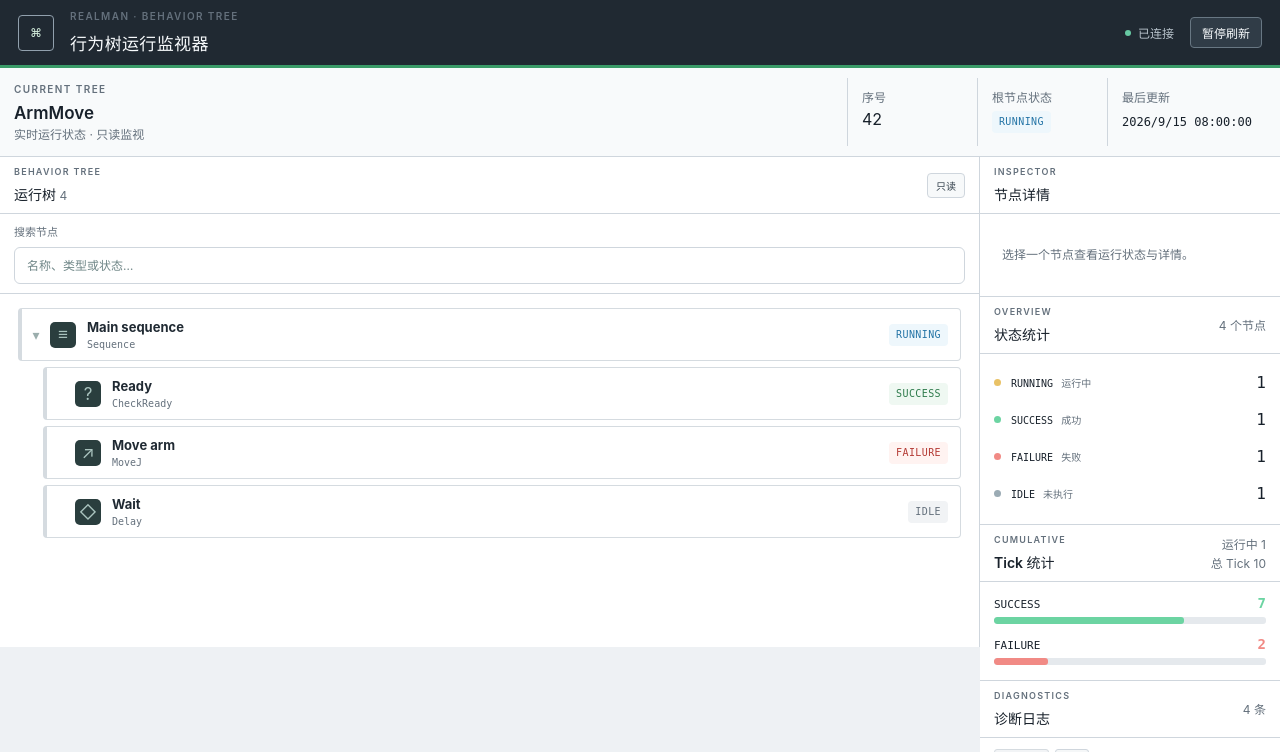
read-only runtime monitor › shows the selected node failure reason in the inspector
Click the button "↗ Move arm MoveJ FAILURE".
click(144, 445)  # box [75, 427, 960, 478]
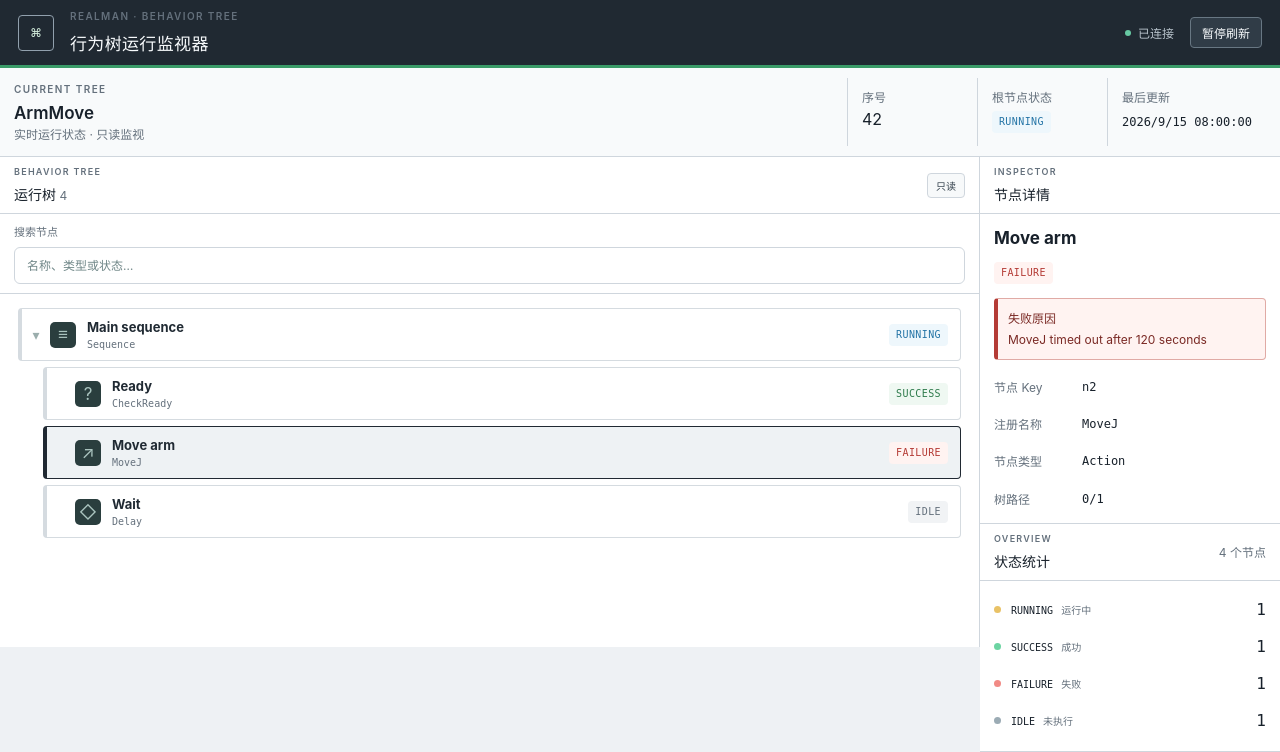
Expected: the element named "节点详情" shows "MoveJ timed out after 120 seconds", [1008, 332, 1207, 347]
